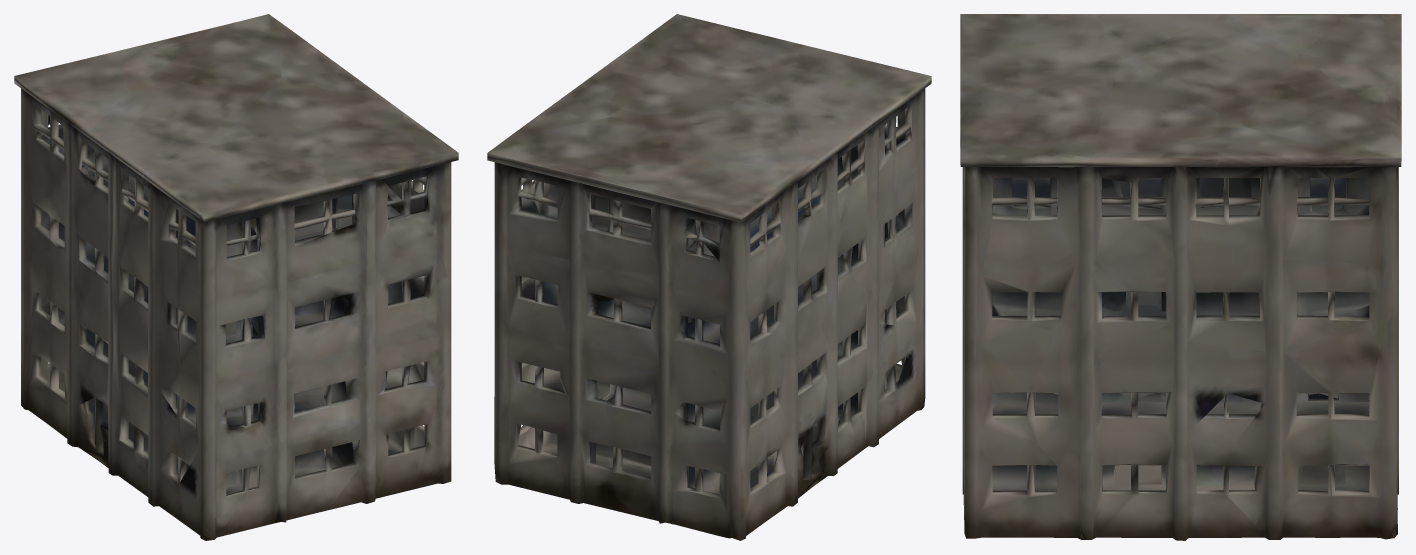
Rendered from warehouse.glb.
3 views of the same model, side by side, from view 1: azimuth 30°, elevation 25°; view 2: azimuth 150°, elevation 25°; view 3: azimuth 270°, elevation 25° (orthographic). The views are drawn at different scales.
Parts seen in each view (by area): view 1: tripo_node_4810b703; view 2: tripo_node_4810b703; view 3: tripo_node_4810b703.
Boxes of the visible parts, box(x1,y1,x2,y2) form: tripo_node_4810b703: box(14, 14, 458, 540); tripo_node_4810b703: box(487, 14, 931, 540); tripo_node_4810b703: box(960, 14, 1401, 540).
Bounding box in the file's own units: 0.7744 × 0.9624 × 0.9998.
Materials: 1 (1 with a texture image).
